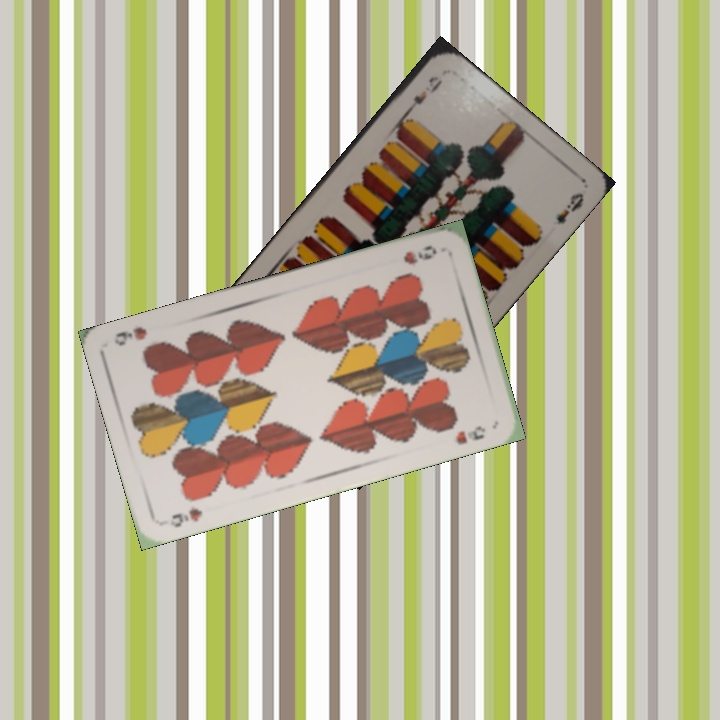E9: (401, 71, 445, 118)
H9: (166, 502, 205, 531), (399, 241, 439, 267)
